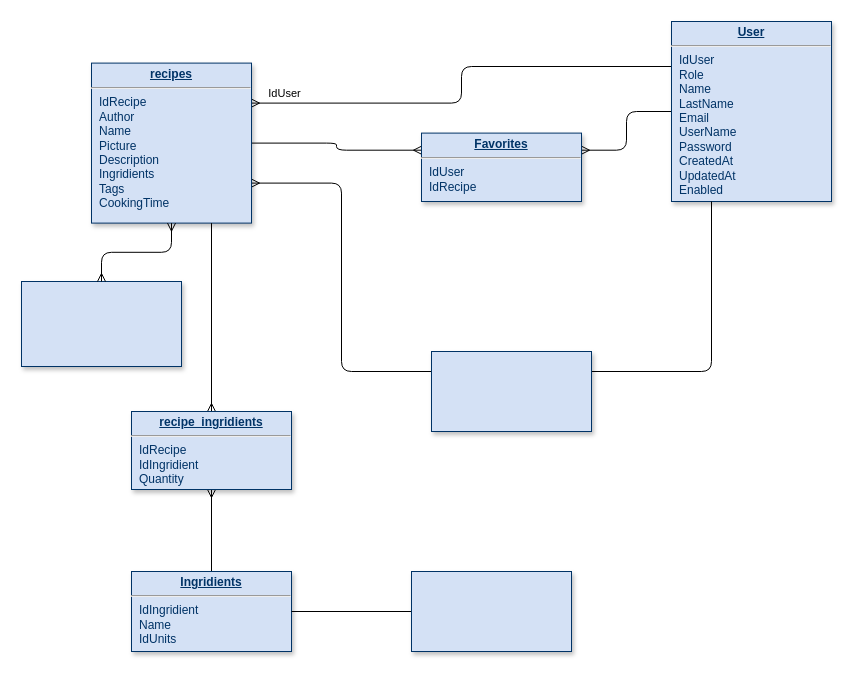
Image size: 855x676. Some labels were removed from this diagram. Each missing label, with the centre of its shape:
"Cart IdCart IdUser IdRecipe" belongs at (512,392).
"Tags IdTag HEXCode Slug" belongs at (102,325).
"Units IdUnits Name" belongs at (492,612).
